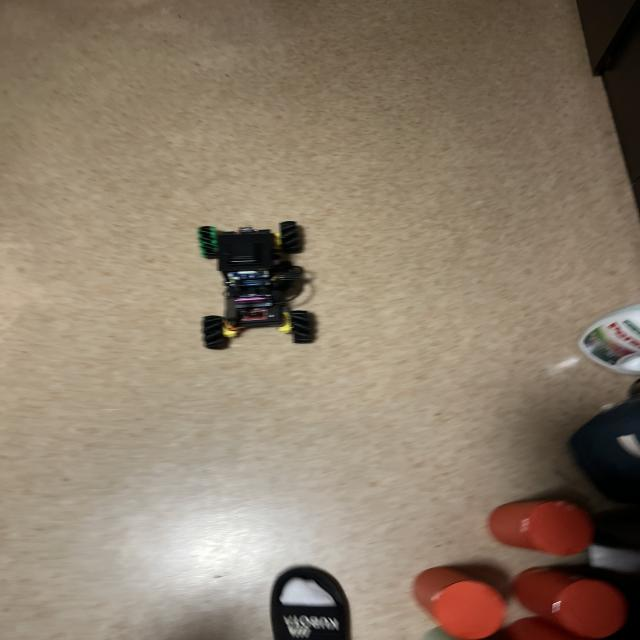robot: (197, 221, 317, 350)
